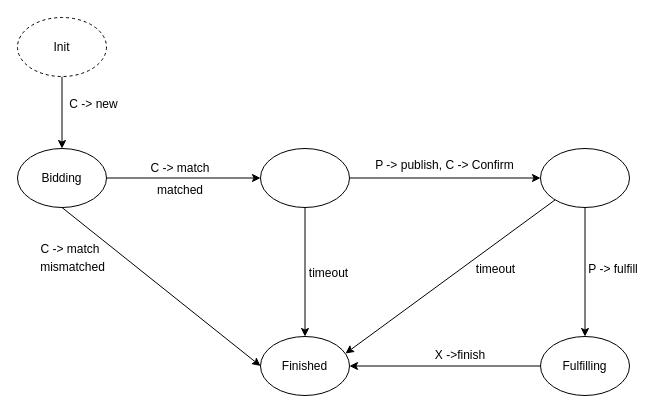
Image size: 671x413. Some labels were removed from this diagram. The centre of each missing label's shape, as x and y in pixels:
"Confirming" goes at point (305, 178).
"Deploying" goes at point (585, 178).
